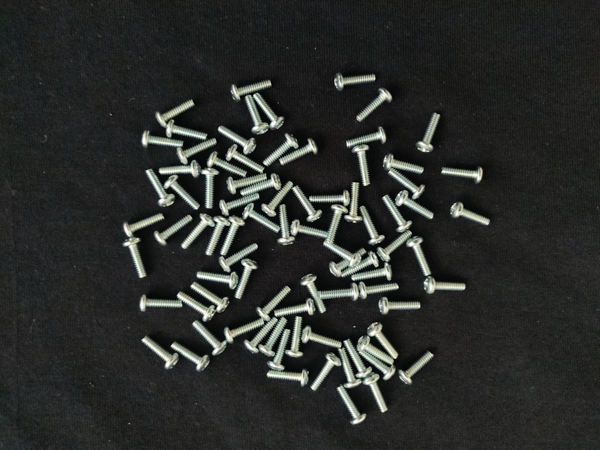shortscrew: (190, 320, 228, 357), (243, 317, 280, 355), (164, 174, 201, 210), (336, 384, 367, 426), (142, 336, 179, 371), (191, 281, 230, 314), (309, 353, 341, 393), (177, 290, 217, 322), (399, 351, 435, 386), (257, 286, 292, 322), (357, 87, 394, 121), (153, 216, 193, 247), (218, 243, 258, 274), (264, 132, 300, 166), (359, 348, 396, 381), (258, 317, 287, 359), (254, 93, 286, 131), (171, 342, 211, 372), (182, 214, 216, 249), (344, 339, 373, 380), (368, 322, 400, 359), (243, 203, 281, 234), (396, 190, 435, 220), (222, 318, 265, 345), (145, 169, 175, 207), (383, 195, 413, 233), (292, 185, 322, 223), (329, 248, 368, 277), (155, 99, 195, 127), (225, 145, 265, 173), (358, 334, 395, 364), (450, 201, 492, 227), (323, 240, 362, 268), (389, 170, 425, 200), (338, 251, 381, 276), (218, 126, 256, 154), (221, 215, 246, 257), (417, 111, 442, 153), (301, 274, 327, 314), (406, 236, 432, 276), (363, 374, 389, 414), (235, 259, 260, 300), (122, 238, 147, 279), (123, 213, 165, 237), (206, 214, 230, 256), (268, 330, 291, 373), (301, 326, 343, 349), (196, 268, 238, 291), (246, 95, 270, 135), (361, 206, 385, 246), (281, 140, 319, 165), (339, 348, 362, 389), (227, 172, 268, 195), (230, 79, 272, 101), (346, 126, 388, 148), (241, 174, 283, 196), (359, 280, 399, 302), (334, 72, 377, 92), (220, 192, 259, 214), (318, 283, 360, 303), (352, 145, 372, 187), (166, 120, 208, 140), (327, 203, 348, 243), (440, 166, 484, 185), (383, 154, 424, 174), (267, 369, 309, 388), (286, 317, 305, 359), (275, 299, 317, 318), (379, 297, 422, 315), (351, 263, 394, 281), (345, 183, 364, 223), (290, 220, 330, 239), (160, 160, 202, 178), (424, 276, 466, 294), (141, 131, 183, 149), (378, 235, 407, 261), (277, 206, 295, 246), (139, 296, 183, 312), (309, 191, 351, 206)
